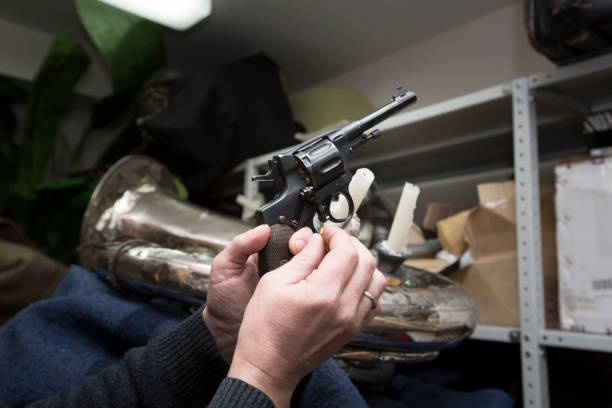gun: (250, 84, 420, 278)
